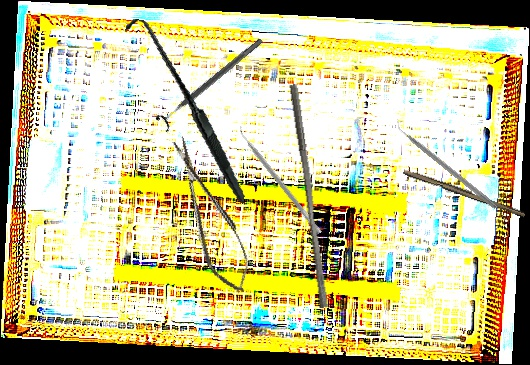Chopper: (391, 116, 503, 210)
Fixation Ring: (153, 32, 269, 133)
Hook Surgical: (97, 17, 274, 204)
Micro Scissor: (163, 129, 258, 301)
Pusher: (280, 83, 337, 309)
Scalpel Handle: (402, 167, 527, 218)
Spatula Surgical: (234, 124, 327, 235)
